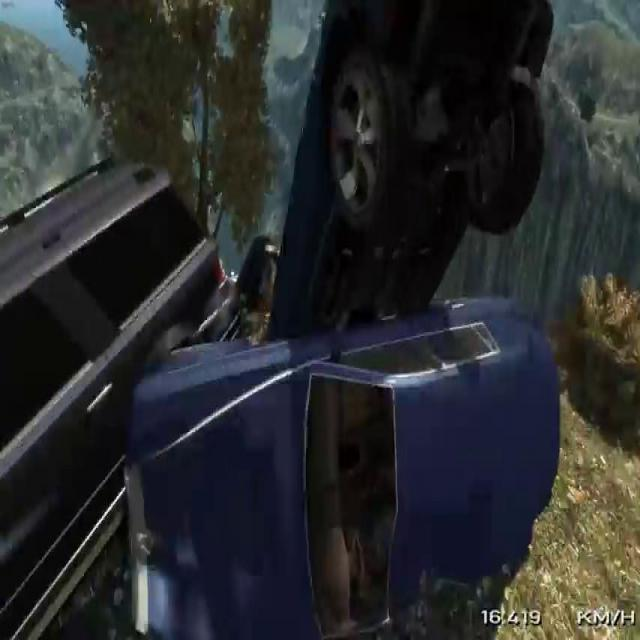accident: (0, 0, 570, 627)
